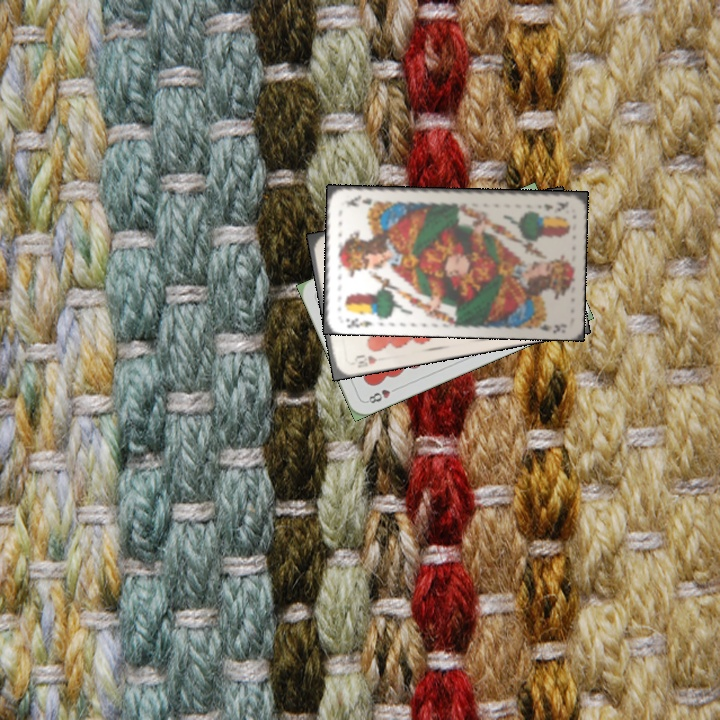EK: (342, 314, 375, 330), (539, 197, 571, 213)
H10: (345, 351, 379, 370)
H8: (362, 383, 401, 406)
